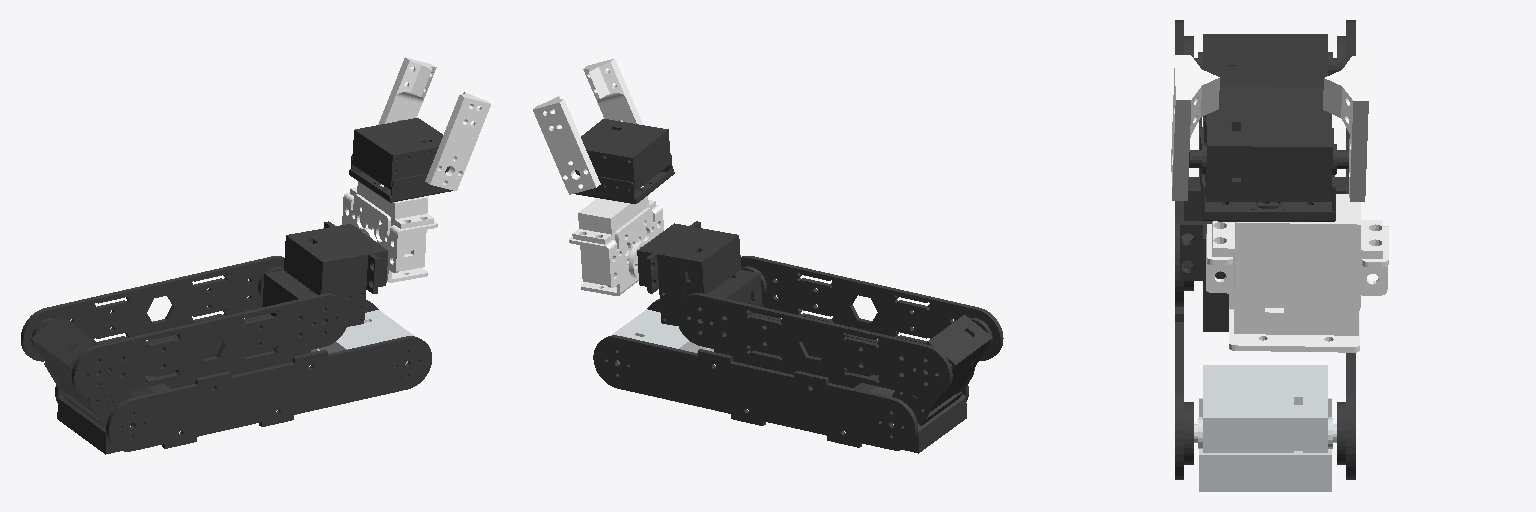
The robot description file, URDF, robot "mechanical-arm-v5":
<?xml version="1.0" encoding="utf-8"?>
<!-- This URDF was automatically created by SolidWorks to URDF Exporter! Originally created by [author] ([email redacted]) 
     Commit Version: 1.6.0-4-g7f85cfe  Build Version: 1.6.7995.38578
     For more information, please see http://wiki.ros.org/sw_urdf_exporter -->
<robot
  name="mechanical-arm-v5">
  <link
    name="base_link">
    <inertial>
      <origin
        xyz="-0.000106097413693172 -5.23405378044638E-05 0.0114425488512996"
        rpy="0 0 0" />
      <mass
        value="0.0463727694679676" />
      <inertia
        ixx="8.06740140755239E-06"
        ixy="1.26380719221816E-08"
        ixz="4.63533478134961E-22"
        iyy="8.29274775043673E-06"
        iyz="2.38597708689369E-22"
        izz="1.39298272867659E-05" />
    </inertial>
    <visual>
      <origin
        xyz="0 0 0"
        rpy="0 0 0" />
      <geometry>
        <mesh
          filename="package://my_nodes/meshes/base_link.STL" />
      </geometry>
      <material
        name="">
        <color
          rgba="0.898039215686275 0.917647058823529 0.929411764705882 1" />
      </material>
    </visual>
    <collision>
      <origin
        xyz="0 0 0"
        rpy="0 0 0" />
      <geometry>
        <mesh
          filename="package://my_nodes/meshes/base_link.STL" />
      </geometry>
    </collision>
  </link>
  <link
    name="link1">
    <inertial>
      <origin
        xyz="-0.125679124034447 -0.0228172963152167 -0.0088785695592608"
        rpy="0 0 0" />
      <mass
        value="0.13873522681902" />
      <inertia
        ixx="2.39237766503345E-05"
        ixy="-1.59647182253041E-08"
        ixz="-3.92939214481242E-06"
        iyy="0.000236171460589085"
        iyz="-2.88955842792879E-08"
        izz="0.00023645414962" />
    </inertial>
    <visual>
      <origin
        xyz="0 0 0"
        rpy="0 0 0" />
      <geometry>
        <mesh
          filename="package://my_nodes/meshes/link1.STL" />
      </geometry>
      <material
        name="">
        <color
          rgba="0.298039215686275 0.298039215686275 0.298039215686275 1" />
      </material>
    </visual>
    <collision>
      <origin
        xyz="0 0 0"
        rpy="0 0 0" />
      <geometry>
        <mesh
          filename="package://my_nodes/meshes/link1.STL" />
      </geometry>
    </collision>
  </link>
  <joint
    name="joint1"
    type="continuous">
    <origin
      xyz="0.00975000000000047 -0.0228 0.0150700000000001"
      rpy="3.14159265358979 -0.000232985721167 0" />
    <parent
      link="base_link" />
    <child
      link="link1" />
    <axis
      xyz="0 -1 0" />
    <limit
      lower="0"
      upper="0"
      effort="0"
      velocity="0" />
  </joint>
  <link
    name="link2">
    <inertial>
      <origin
        xyz="-0.0680317509570421 -0.0227999999999081 0.00337041449962185"
        rpy="0 0 0" />
      <mass
        value="0.0538438117267846" />
      <inertia
        ixx="3.92103461762047E-06"
        ixy="2.28804534124126E-21"
        ixz="-4.4411212081436E-07"
        iyy="0.00012782014857789"
        iyz="5.37341386855349E-21"
        izz="0.00012397987967786" />
    </inertial>
    <visual>
      <origin
        xyz="0 0 0"
        rpy="0 0 0" />
      <geometry>
        <mesh
          filename="package://my_nodes/meshes/link2.STL" />
      </geometry>
      <material
        name="">
        <color
          rgba="0.298039215686275 0.298039215686275 0.298039215686275 1" />
      </material>
    </visual>
    <collision>
      <origin
        xyz="0 0 0"
        rpy="0 0 0" />
      <geometry>
        <mesh
          filename="package://my_nodes/meshes/link2.STL" />
      </geometry>
    </collision>
  </link>
  <joint
    name="joint2"
    type="continuous">
    <origin
      xyz="-0.19202 0 -0.035833"
      rpy="3.1416 0.012325 3.1416" />
    <parent
      link="link1" />
    <child
      link="link2" />
    <axis
      xyz="0 -1 0" />
    <limit
      lower="0"
      upper="0"
      effort="0"
      velocity="0" />
  </joint>
  <link
    name="link3">
    <inertial>
      <origin
        xyz="-0.0170134914151542 -0.0227700212036442 -0.0123118080686513"
        rpy="0 0 0" />
      <mass
        value="0.0692620585470793" />
      <inertia
        ixx="1.17192658704272E-05"
        ixy="3.92018004183023E-08"
        ixz="3.42654024698945E-07"
        iyy="1.14358954522364E-05"
        iyz="-1.98896661484632E-09"
        izz="1.84554655609554E-05" />
    </inertial>
    <visual>
      <origin
        xyz="0 0 0"
        rpy="0 0 0" />
      <geometry>
        <mesh
          filename="package://my_nodes/meshes/link3.STL" />
      </geometry>
      <material
        name="">
        <color
          rgba="0.298039215686275 0.298039215686275 0.298039215686275 1" />
      </material>
    </visual>
    <collision>
      <origin
        xyz="0 0 0"
        rpy="0 0 0" />
      <geometry>
        <mesh
          filename="package://my_nodes/meshes/link3.STL" />
      </geometry>
    </collision>
  </link>
  <joint
    name="joint3"
    type="continuous">
    <origin
      xyz="-0.14 -0.0456 0"
      rpy="-3.1416 0 0" />
    <parent
      link="link2" />
    <child
      link="link3" />
    <axis
      xyz="0 1 0" />
    <limit
      lower="0"
      upper="0"
      effort="0"
      velocity="0" />
  </joint>
  <link
    name="link4">
    <inertial>
      <origin
        xyz="6.82595839173929E-05 0.0148202690856446 -0.00607605441564026"
        rpy="0 0 0" />
      <mass
        value="0.0409780706300096" />
      <inertia
        ixx="7.17751775275711E-06"
        ixy="1.30340664945203E-08"
        ixz="-4.0068253941185E-08"
        iyy="1.20227368601055E-05"
        iyz="1.54671260337403E-07"
        izz="7.90774677462836E-06" />
    </inertial>
    <visual>
      <origin
        xyz="0 0 0"
        rpy="0 0 0" />
      <geometry>
        <mesh
          filename="package://my_nodes/meshes/link4.STL" />
      </geometry>
      <material
        name="">
        <color
          rgba="1 1 1 1" />
      </material>
    </visual>
    <collision>
      <origin
        xyz="0 0 0"
        rpy="0 0 0" />
      <geometry>
        <mesh
          filename="package://my_nodes/meshes/link4.STL" />
      </geometry>
    </collision>
  </link>
  <joint
    name="joint4"
    type="continuous">
    <origin
      xyz="-0.047793 -0.012806 -0.024017"
      rpy="-0.025937 -0.0094245 1.571" />
    <parent
      link="link3" />
    <child
      link="link4" />
    <axis
      xyz="0.00072172 0.99707 0.076551" />
    <limit
      lower="0"
      upper="0"
      effort="0"
      velocity="0" />
  </joint>
  <link
    name="link5">
    <inertial>
      <origin
        xyz="-0.00111109602194797 0.0167319409788253 -0.00620392289871687"
        rpy="0 0 0" />
      <mass
        value="0.0366230966265939" />
      <inertia
        ixx="5.97998571155992E-06"
        ixy="-6.00849609877555E-08"
        ixz="3.51610977751056E-08"
        iyy="1.00386015215997E-05"
        iyz="-2.86784344401252E-07"
        izz="6.35266025508596E-06" />
    </inertial>
    <visual>
      <origin
        xyz="0 0 0"
        rpy="0 0 0" />
      <geometry>
        <mesh
          filename="package://my_nodes/meshes/link5.STL" />
      </geometry>
      <material
        name="">
        <color
          rgba="0.298039215686275 0.298039215686275 0.298039215686275 1" />
      </material>
    </visual>
    <collision>
      <origin
        xyz="0 0 0"
        rpy="0 0 0" />
      <geometry>
        <mesh
          filename="package://my_nodes/meshes/link5.STL" />
      </geometry>
    </collision>
  </link>
  <joint
    name="joint5"
    type="continuous">
    <origin
      xyz="-0.00997 0.0132 -0.0324"
      rpy="-1.5708 0 -3.0413" />
    <parent
      link="link4" />
    <child
      link="link5" />
    <axis
      xyz="-0.015124 0.99704 -0.075408" />
    <limit
      lower="0"
      upper="0"
      effort="0"
      velocity="0" />
  </joint>
  <link
    name="link6">
    <inertial>
      <origin
        xyz="0.011269482342222 0.0106578945742939 0.00661977105024925"
        rpy="0 0 0" />
      <mass
        value="0.0106748642370757" />
      <inertia
        ixx="2.232920895883E-06"
        ixy="5.74904935874733E-07"
        ixz="5.72283764885705E-07"
        iyy="1.69990820756727E-06"
        iyz="-8.40427425387238E-07"
        izz="1.4136386838966E-06" />
    </inertial>
    <visual>
      <origin
        xyz="0 0 0"
        rpy="0 0 0" />
      <geometry>
        <mesh
          filename="package://my_nodes/meshes/link6.STL" />
      </geometry>
      <material
        name="">
        <color
          rgba="1 1 1 1" />
      </material>
    </visual>
    <collision>
      <origin
        xyz="0 0 0"
        rpy="0 0 0" />
      <geometry>
        <mesh
          filename="package://my_nodes/meshes/link6.STL" />
      </geometry>
    </collision>
  </link>
  <joint
    name="joint6"
    type="continuous">
    <origin
      xyz="0.011463 0.040003 -0.030406"
      rpy="-0.24744 -0.18677 2.635" />
    <parent
      link="link5" />
    <child
      link="link6" />
    <axis
      xyz="-0.87262 -0.48191 -0.079387" />
    <limit
      lower="0"
      upper="0"
      effort="0"
      velocity="0" />
  </joint>
</robot>

--- What the picture shows (computed from the rendered views, not written in the file) ---
3 views of the same robot in one strip: view 1: azimuth 30°, elevation 25°; view 2: azimuth 150°, elevation 25°; view 3: azimuth 270°, elevation 25° (orthographic).
Robot: mechanical-arm-v5 — 7 links, 6 joints (6 continuous); root link base_link; default pose: all joints at 0.
Links seen in each view (by area): view 1: link1, link2, link3, link5, link6, link4, base_link; view 2: link1, link2, link3, link4, link5, link6, base_link; view 3: link4, link5, base_link, link1, link6, link3, link2.
Link boxes in pixels (<box>): link1: <box>31,300,431,454</box>; link2: <box>21,256,348,398</box>; link3: <box>258,221,387,334</box>; link5: <box>349,118,452,202</box>; link6: <box>378,57,490,190</box>; link4: <box>342,181,437,282</box>; base_link: <box>311,310,413,364</box>; link1: <box>593,299,992,453</box>; link2: <box>676,256,1003,397</box>; link3: <box>637,221,766,333</box>; link4: <box>569,196,663,295</box>; link5: <box>575,119,674,203</box>; link6: <box>533,59,642,194</box>; base_link: <box>611,309,713,363</box>; link4: <box>1206,194,1388,352</box>; link5: <box>1189,86,1348,221</box>; base_link: <box>1194,365,1336,491</box>; link1: <box>1175,34,1355,479</box>; link6: <box>1171,55,1368,201</box>; link3: <box>1180,204,1228,331</box>; link2: <box>1175,20,1355,306</box>.
Size in the robot's own frame: 0.258 by 0.0693 by 0.1661 metres.
Meshes: 7 distinct files referenced, 7 mesh visuals loaded (7 binary STL).